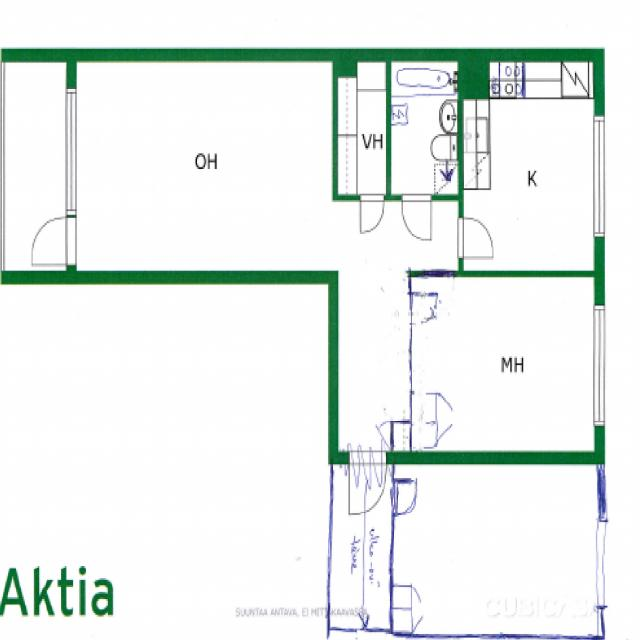door: (32, 216, 76, 262), (408, 291, 448, 333), (458, 218, 494, 258), (390, 480, 425, 521), (402, 193, 430, 239), (360, 193, 384, 234)
